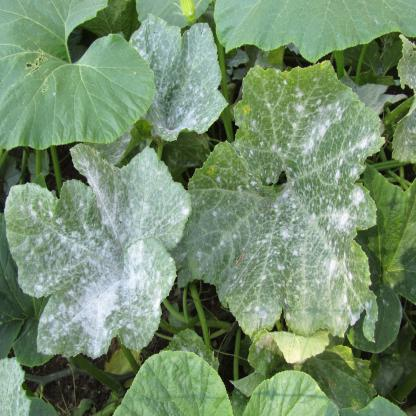squash powdery mildew leaf: (170, 55, 389, 346), (1, 138, 197, 365), (132, 12, 232, 144)
